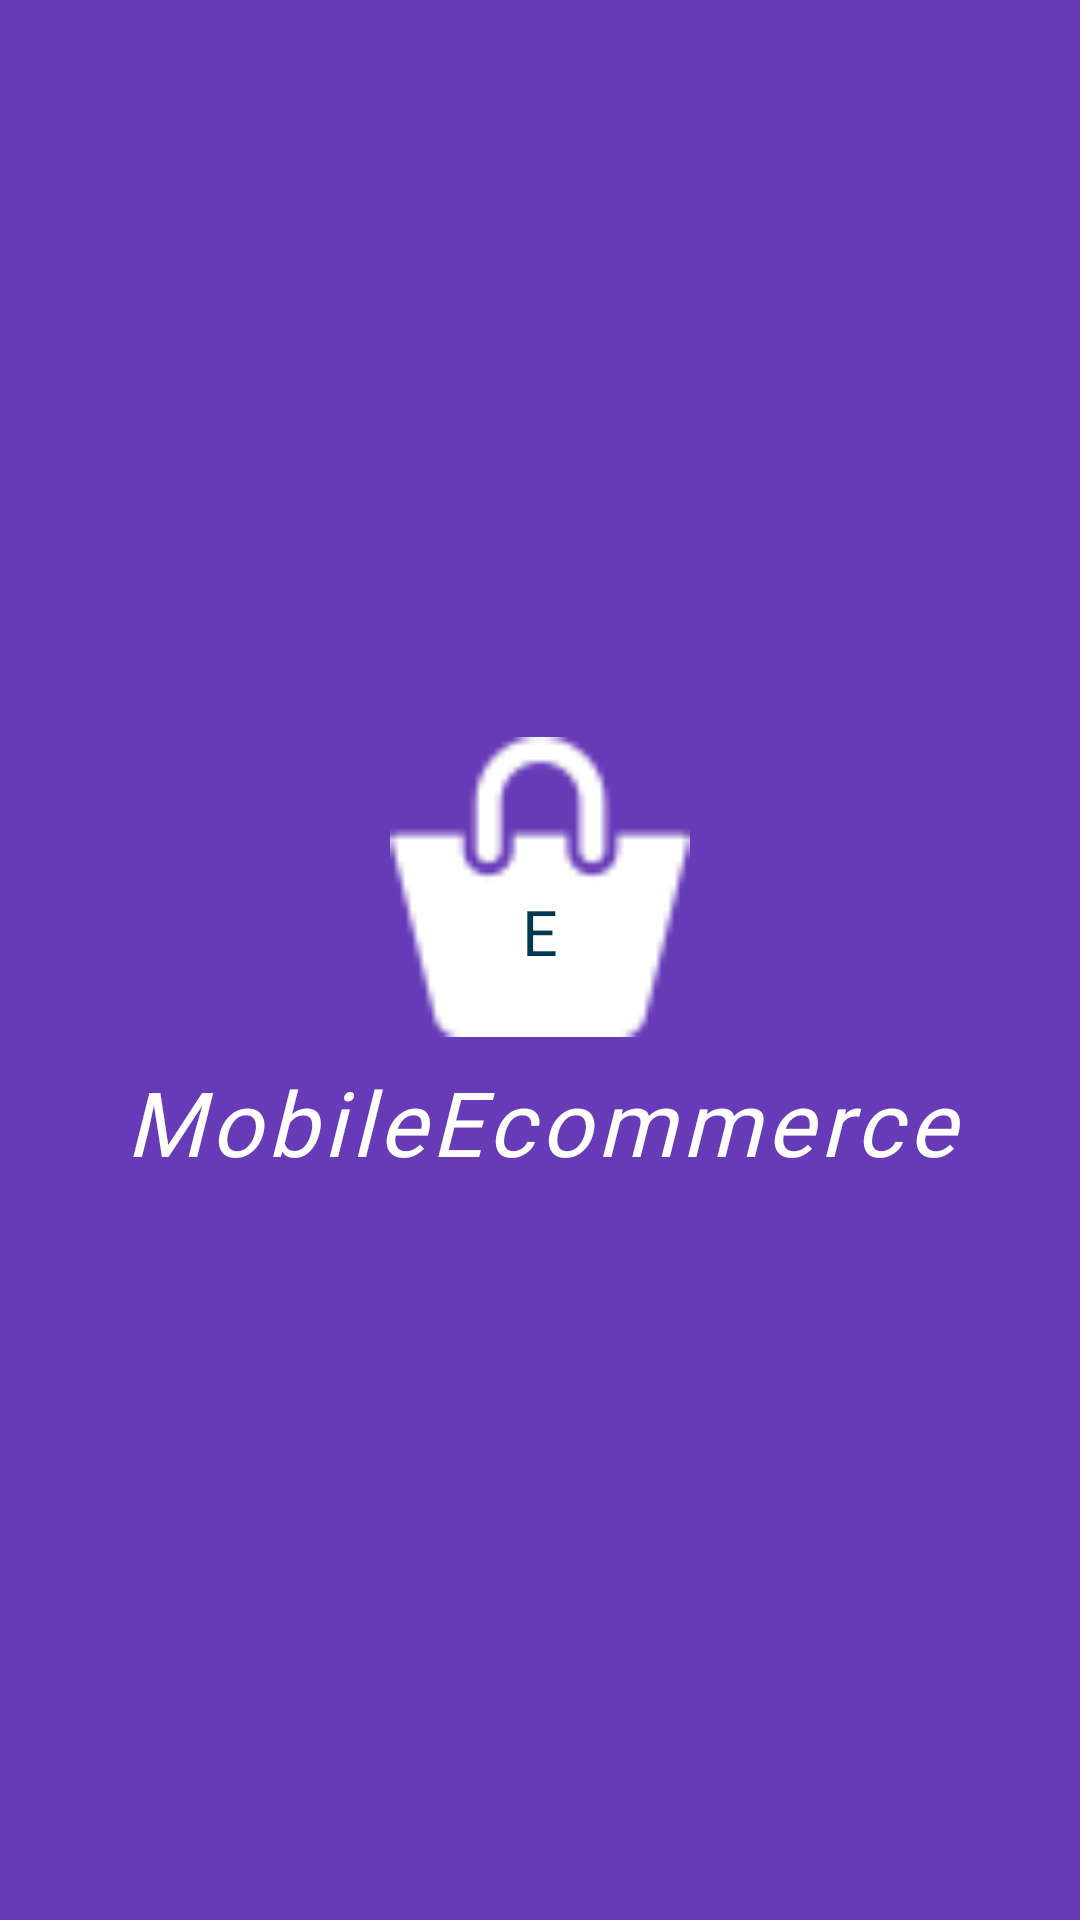

Icon click points for this 1080×1920 phone screenshot, format point (x, y):
shopping basket: point (540, 887)
